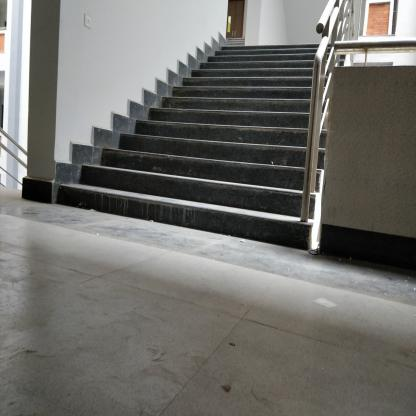stairs: (214, 50, 301, 240)
